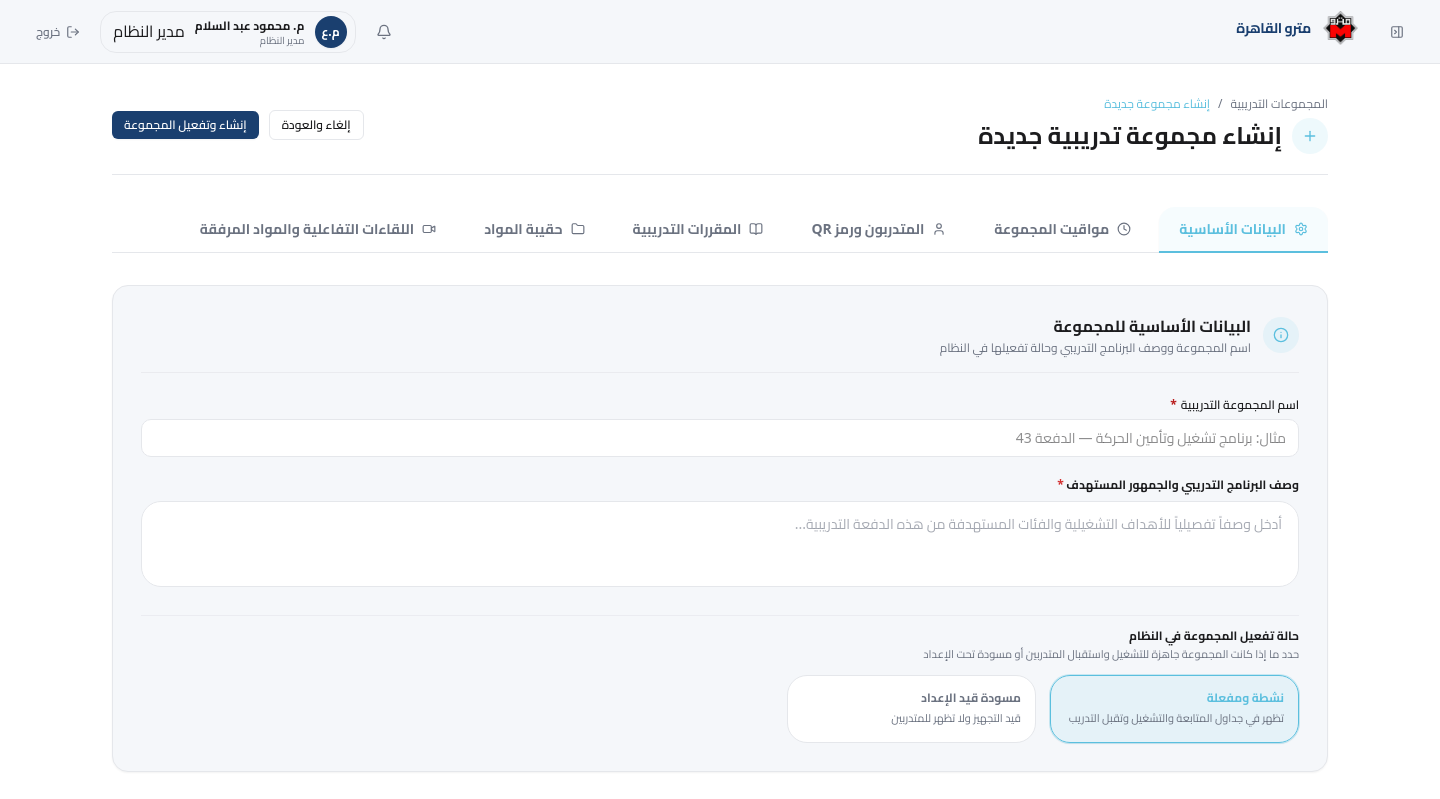
Test: Focused UI/UX Corrections After Increment 10 › 3. Unified Group-Creation and Editing Experience › saves new group and stays in the same unified workspace experience
This screenshot has width=1440, height=799.
# Fill valid required fields
Type "مجموعة الصيانة الوقائية — الدفعة 45" into the field with test id "group-name-input" at coordinates (720, 438), box [141,419,1299,457]
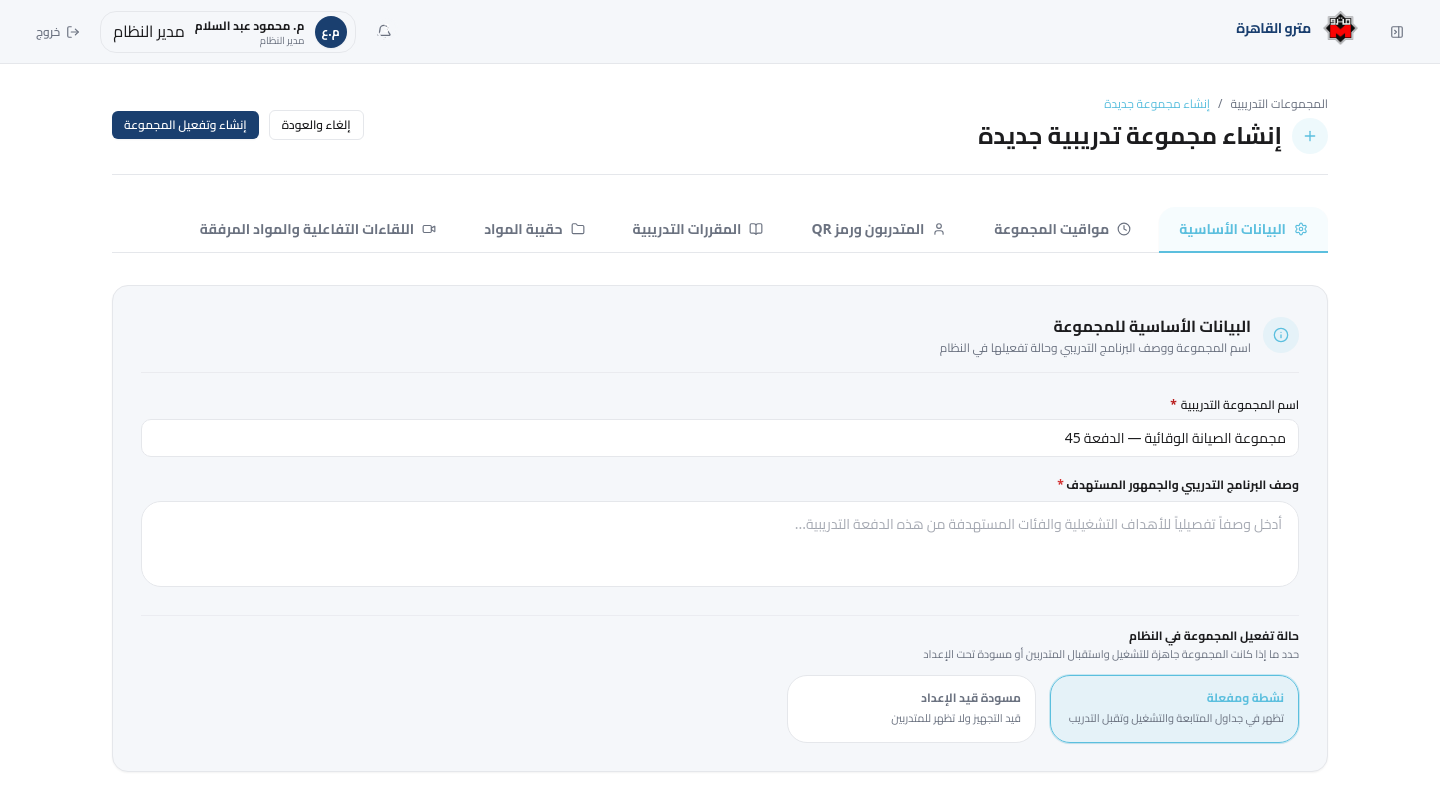
Replace the text in the text box with test id "group-desc-input" with "برنامج صيانة المسارات والشبكات الكهربائية للمترو" at coordinates (720, 544), box [141,501,1299,587]
(page scrolled)
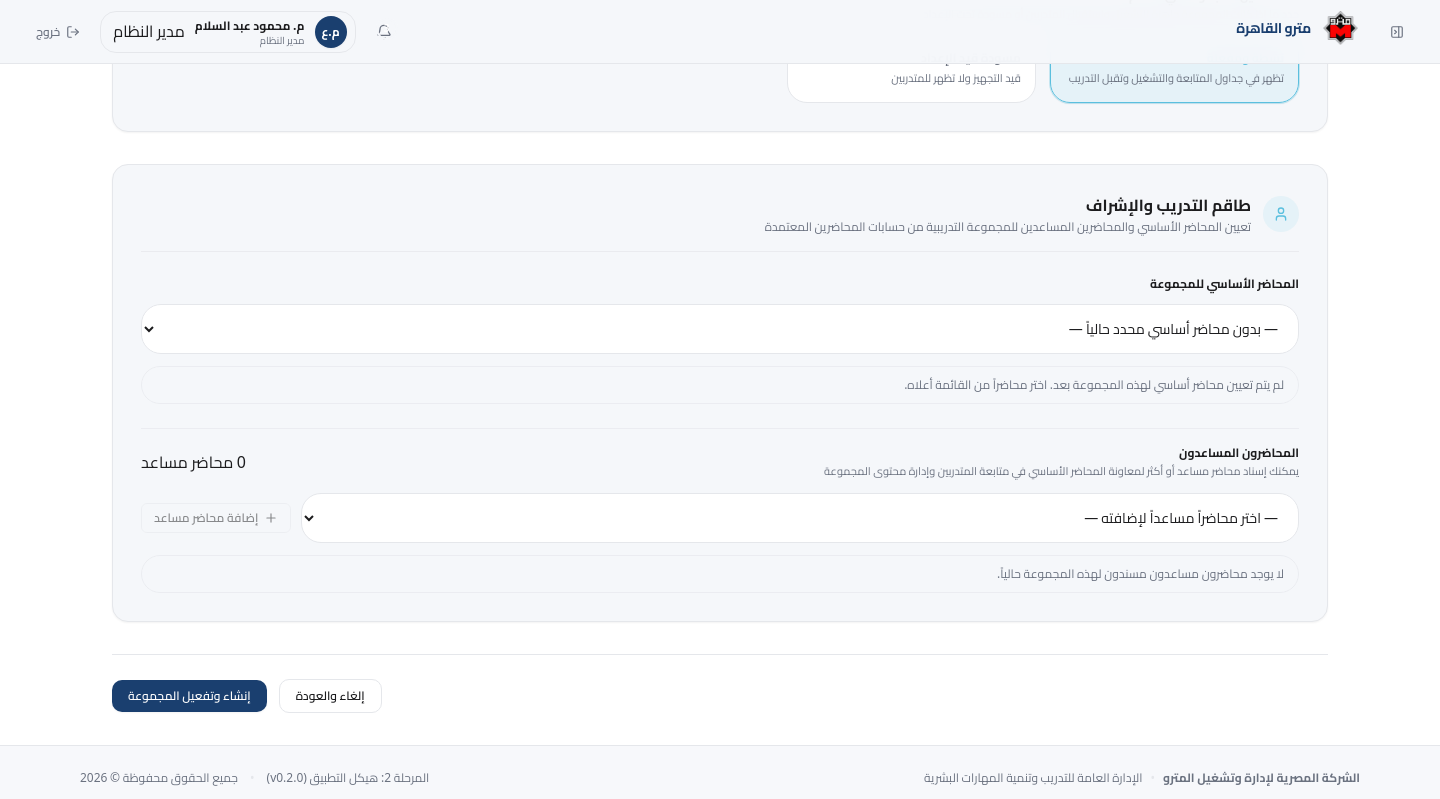
# Save group
Click the button with test id "save-group-btn" at coordinates (189, 696), box [112,680,267,712]
(page scrolled)
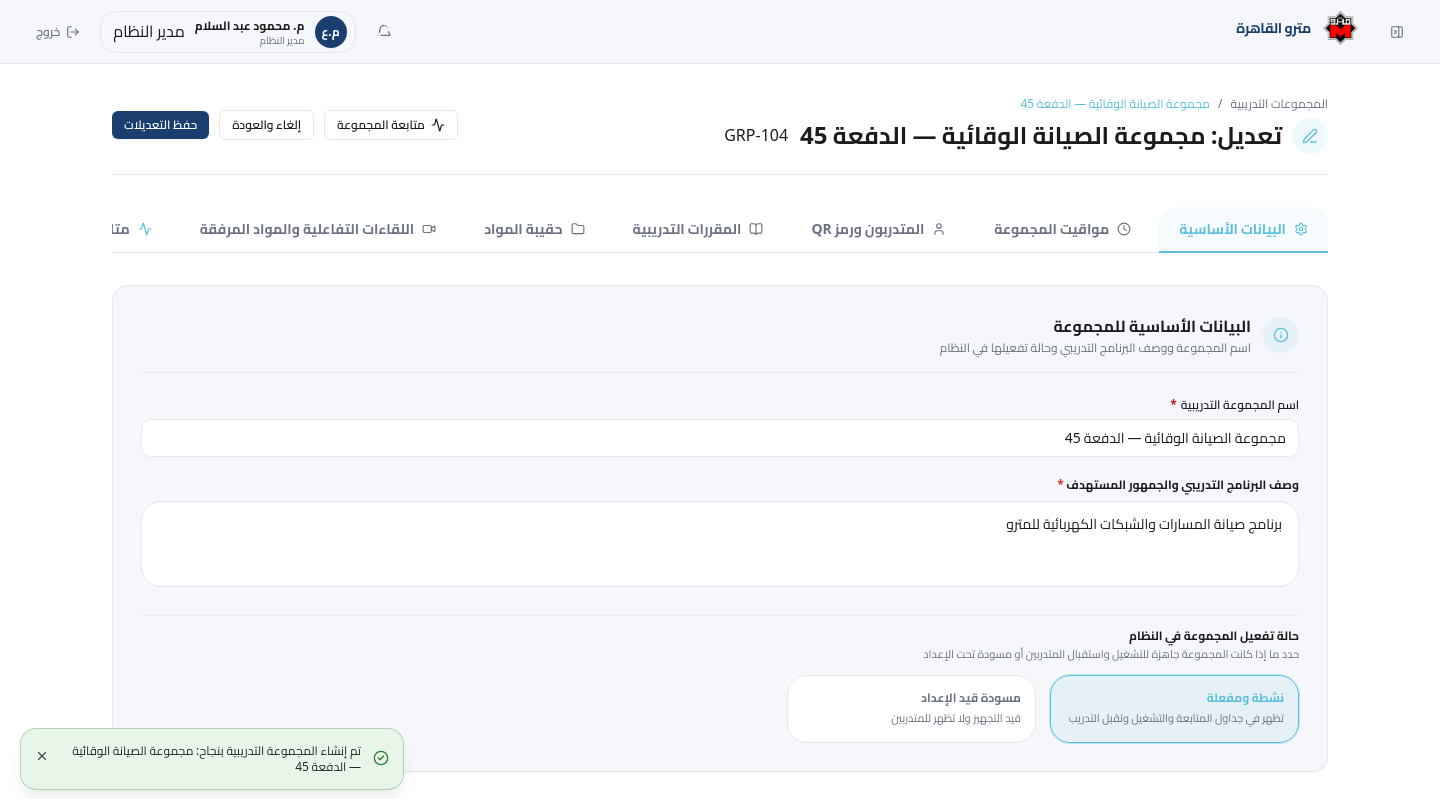
Check: the text "تعديل: مجموعة الصيانة الوقائية — الدفعة 45" is shown, box [800,121,1282,151]
Click the button with test id "tab-materials" at coordinates (534, 230), box [464,207,604,253]
(page scrolled)
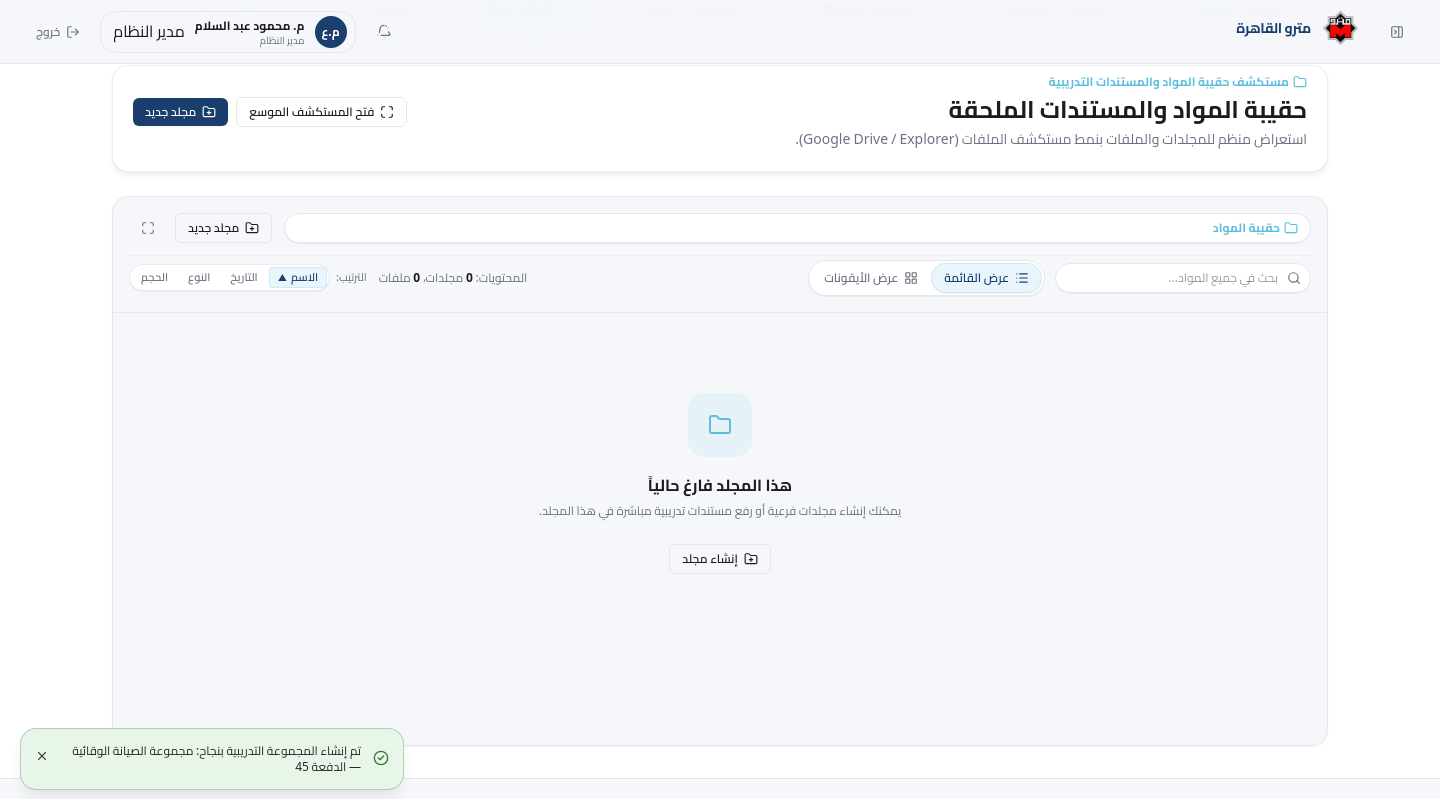
Check: the element with test id "group-materials-tab" is shown
